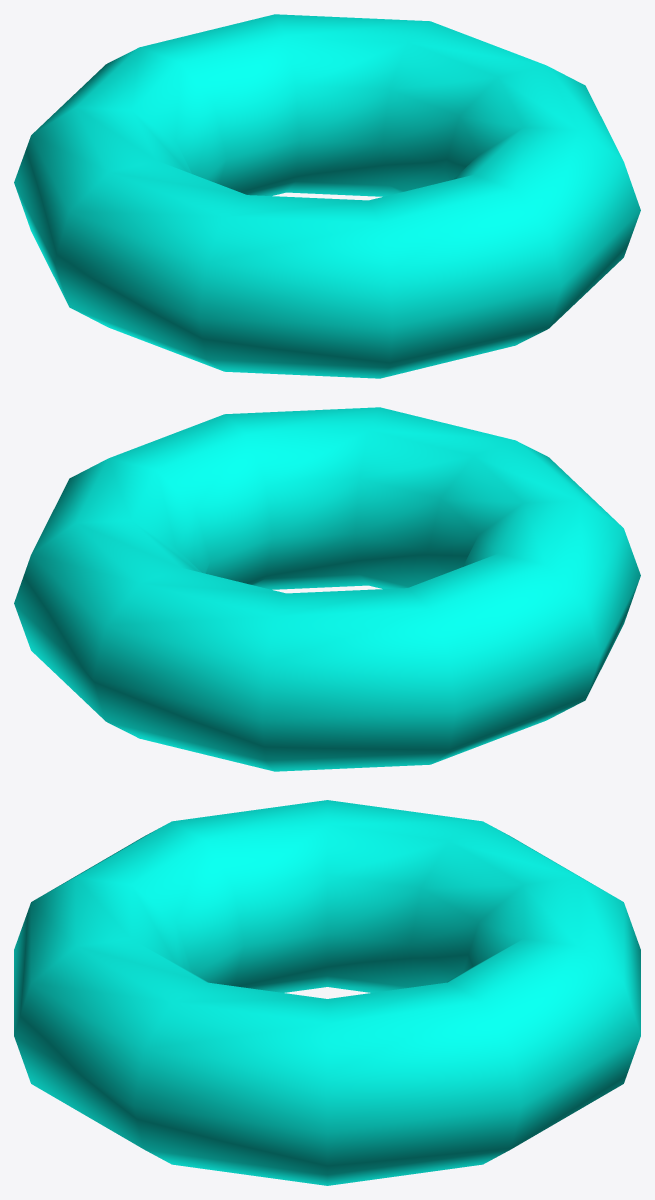
3 renders of one model, top to bottom at view 1: azimuth 30°, elevation 25°; view 2: azimuth 150°, elevation 25°; view 3: azimuth 270°, elevation 25°, orthographic. The views are drawn at different scales.
Parts seen in each view (by area): view 1: Torus; view 2: Torus; view 3: Torus.
Boxes of the visible parts, left/top/right/bottom form: Torus: left=14, top=14, right=640, bottom=378; Torus: left=14, top=407, right=640, bottom=771; Torus: left=14, top=800, right=640, bottom=1185.
Bounding box in the file's own units: 0.14 × 0.038 × 0.1331.
